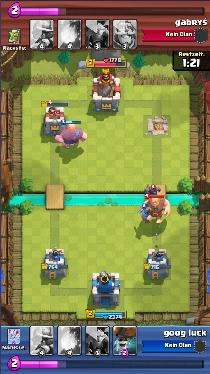ally_giant: (54, 123, 87, 148)
ally_knight: (139, 204, 153, 224)
enemy_giant: (141, 196, 171, 224)
enemy_mini_pekka: (146, 186, 161, 196)
